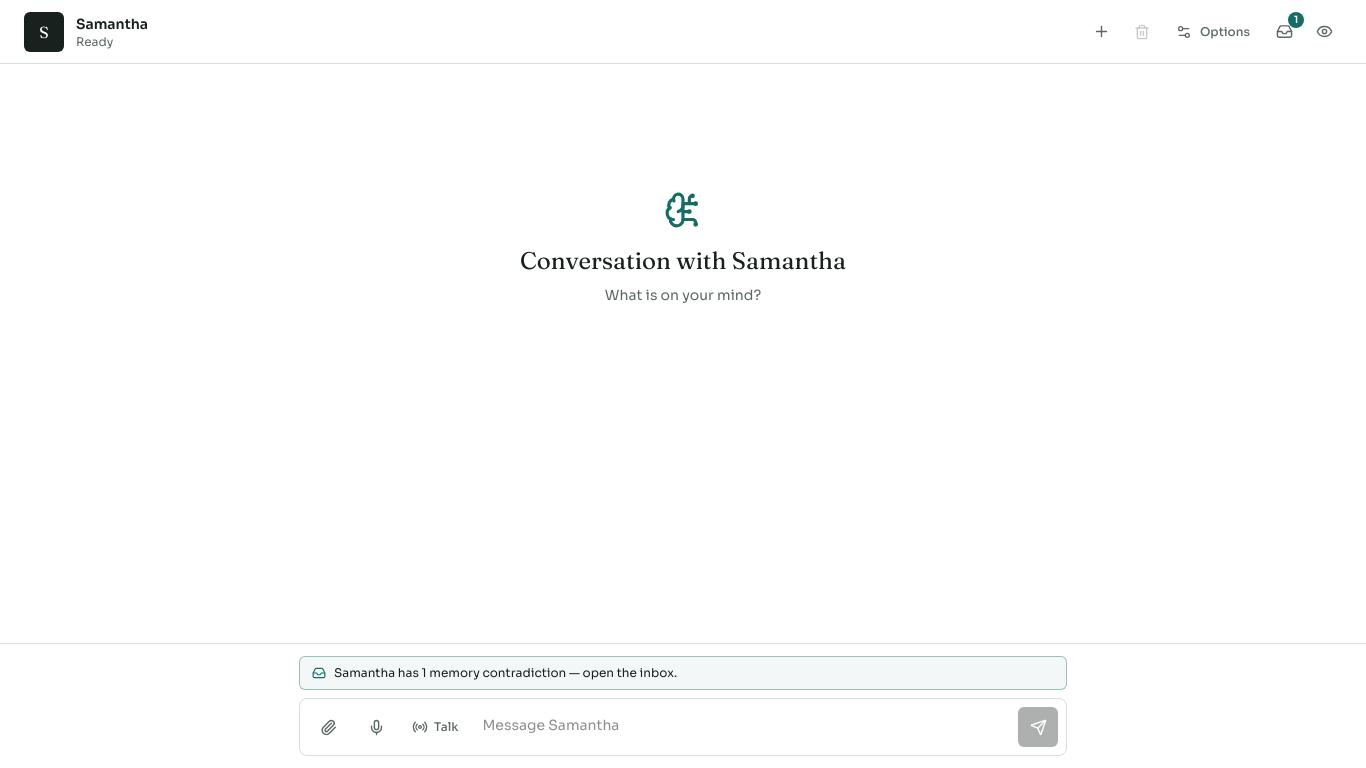
ChatPage outbox replies › surfaces a contradiction as an explicit three-way decision
This screenshot has width=1366, height=768.
Expected: the text box labelled "Message Samantha" is shown, [474,707,1010,747]
Click the button named "Show inbox". click: (1284, 32)
box: [1266,14,1302,50]
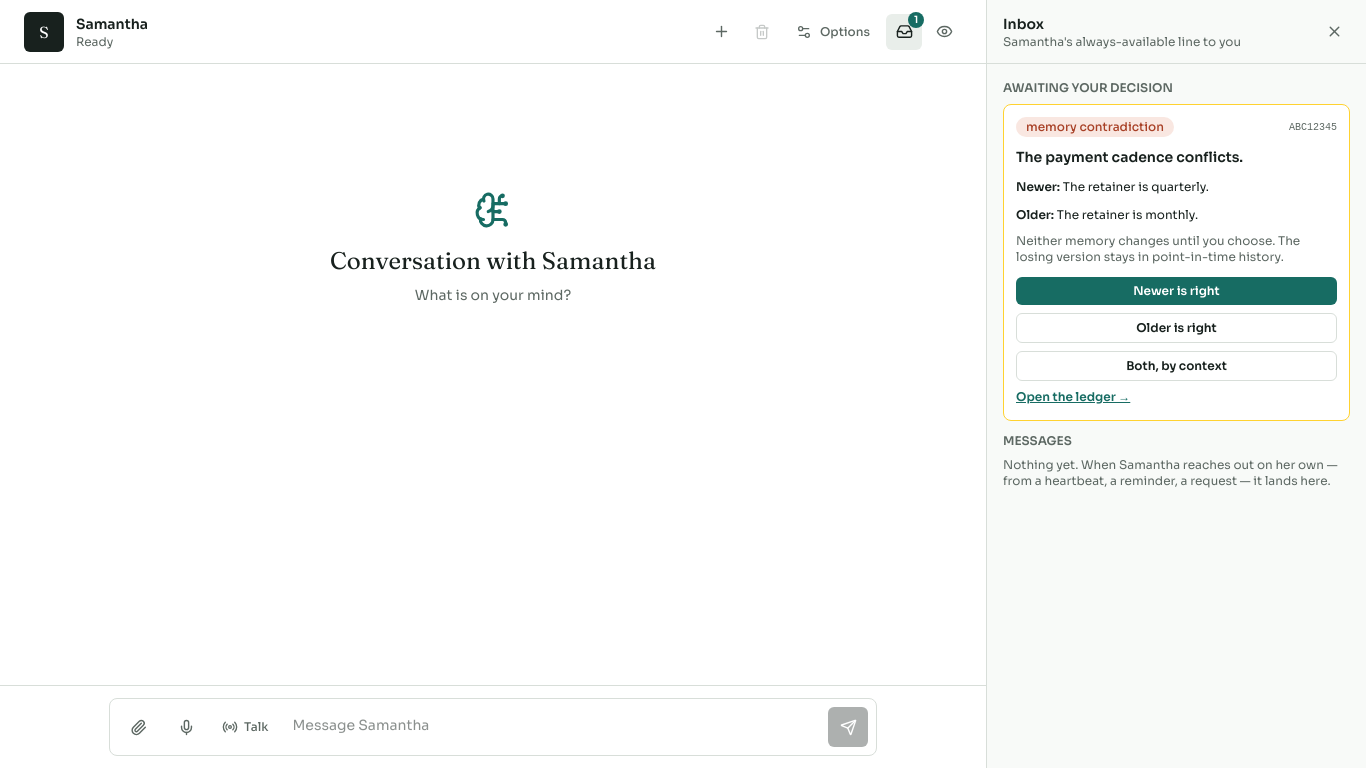
Now the text "The payment cadence conflicts." is shown, box [1016,148,1243,166]
Now the text "Neither memory changes until you choose" is shown, box [1016,233,1300,264]
Click the button "Both, by context". click: (1176, 366)
box: [1016,351,1337,381]
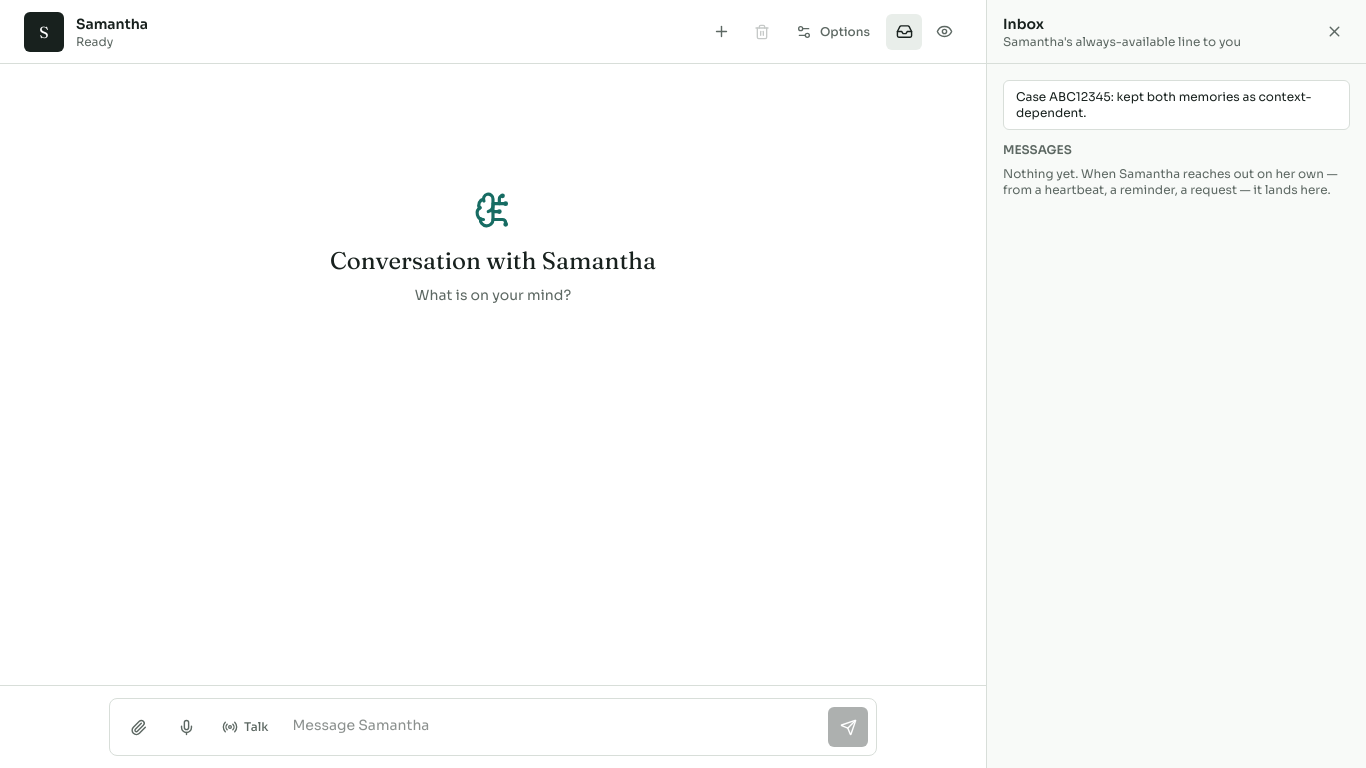
Now the text "Case ABC12345: kept both memories as context-dependent." is shown, box [1003,80,1350,130]
